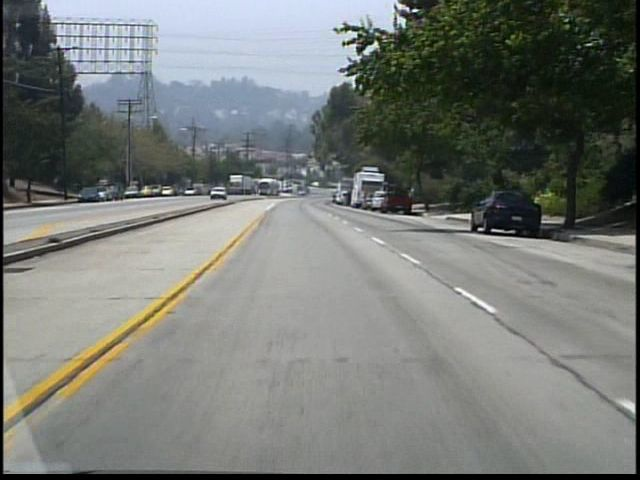person: (404, 183, 416, 209)
